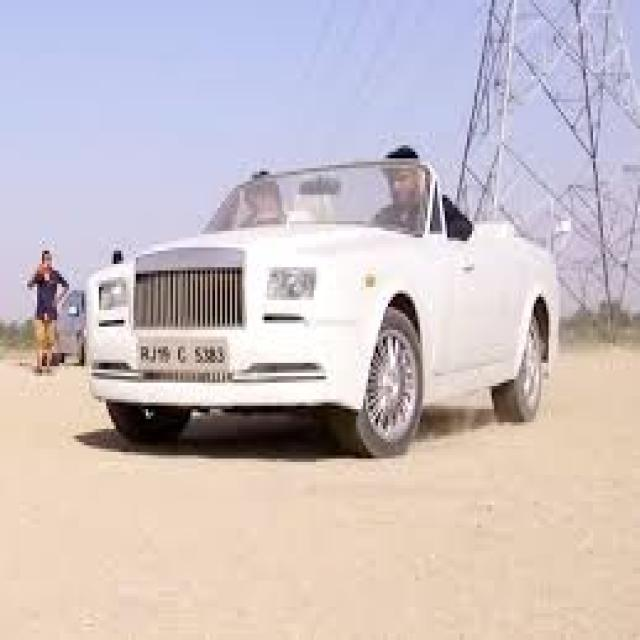car: (82, 174, 564, 458)
